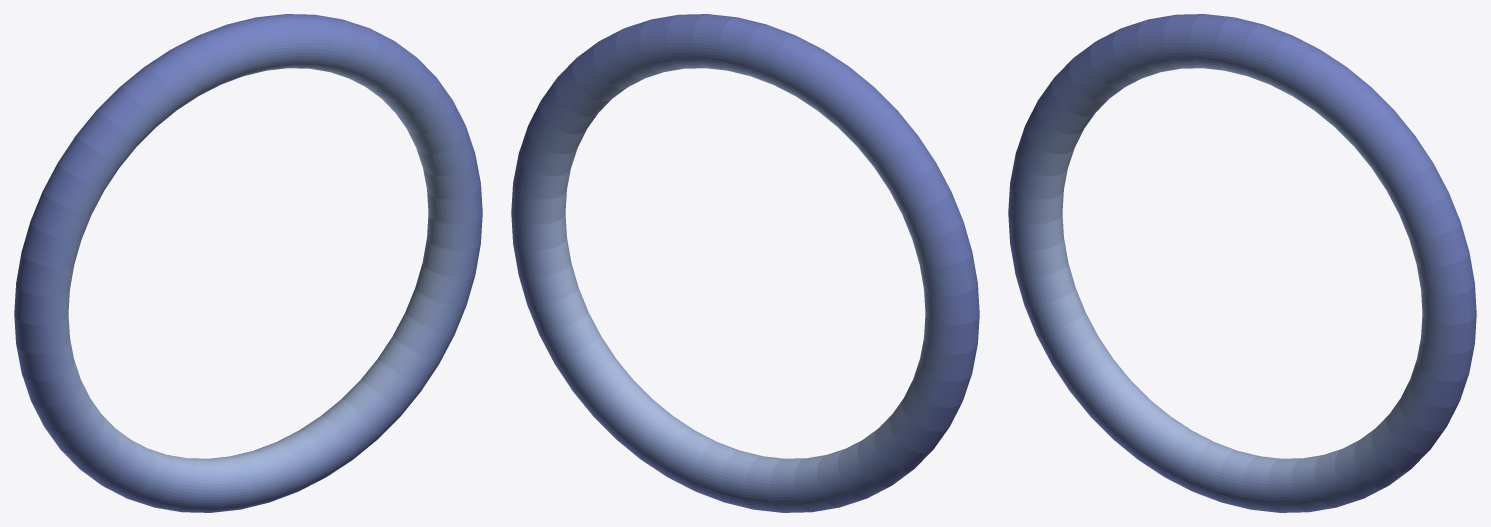
3 renders of one model, left to right at view 1: azimuth 30°, elevation 25°; view 2: azimuth 150°, elevation 25°; view 3: azimuth 330°, elevation 25°, orthographic.
Visible parts, largest first — view 1: world; view 2: world; view 3: world.
Part boxes in pixels (x1,y1,x2,y2): world: [14, 14, 482, 512]; world: [511, 14, 979, 512]; world: [1008, 14, 1476, 512].
Size of the model in its own units: 27.47 by 27.41 by 2.79.
